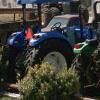Tractor: (5, 18, 100, 86)
